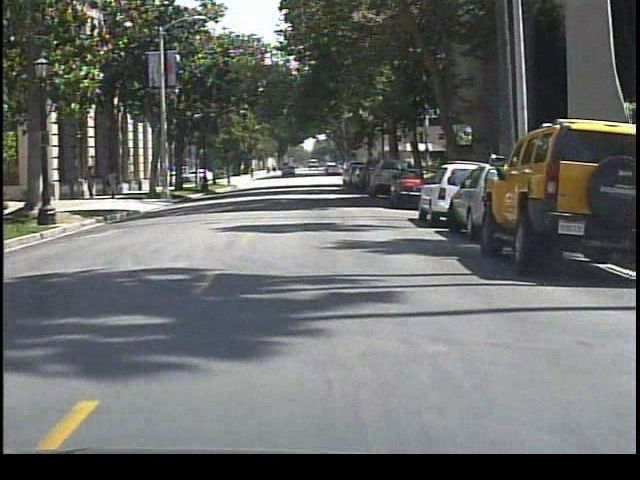person: (104, 165, 127, 201), (82, 163, 102, 204)
